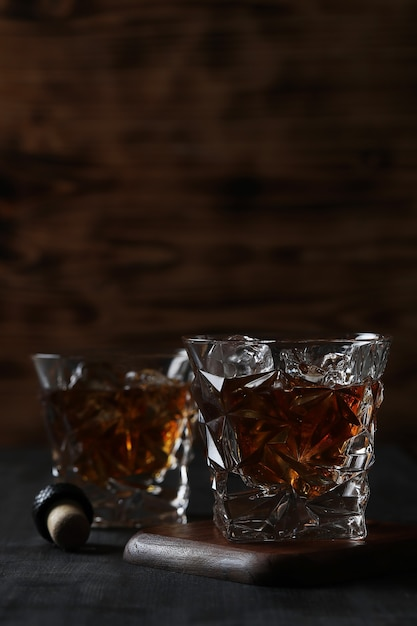alcohol: (181, 333, 393, 550), (28, 349, 215, 528)
